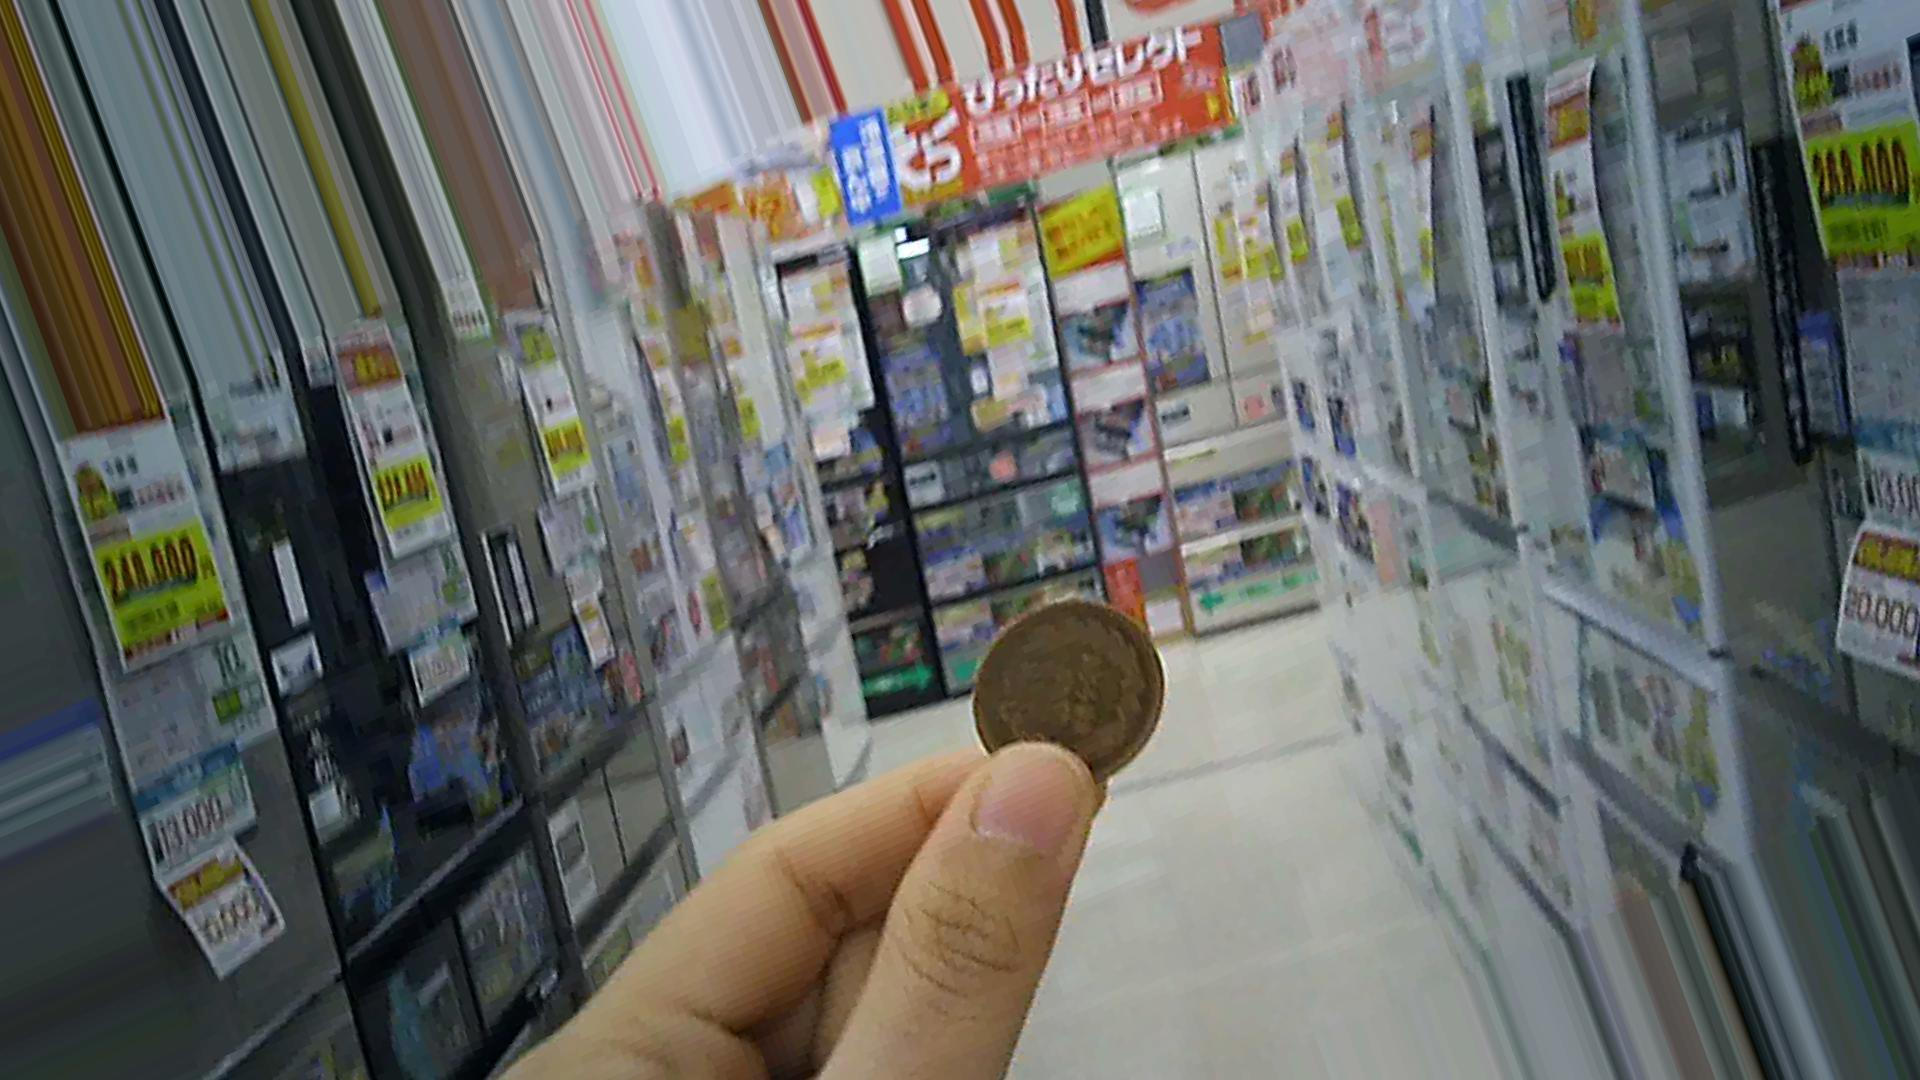10 Yen: (951, 574, 1172, 804)
